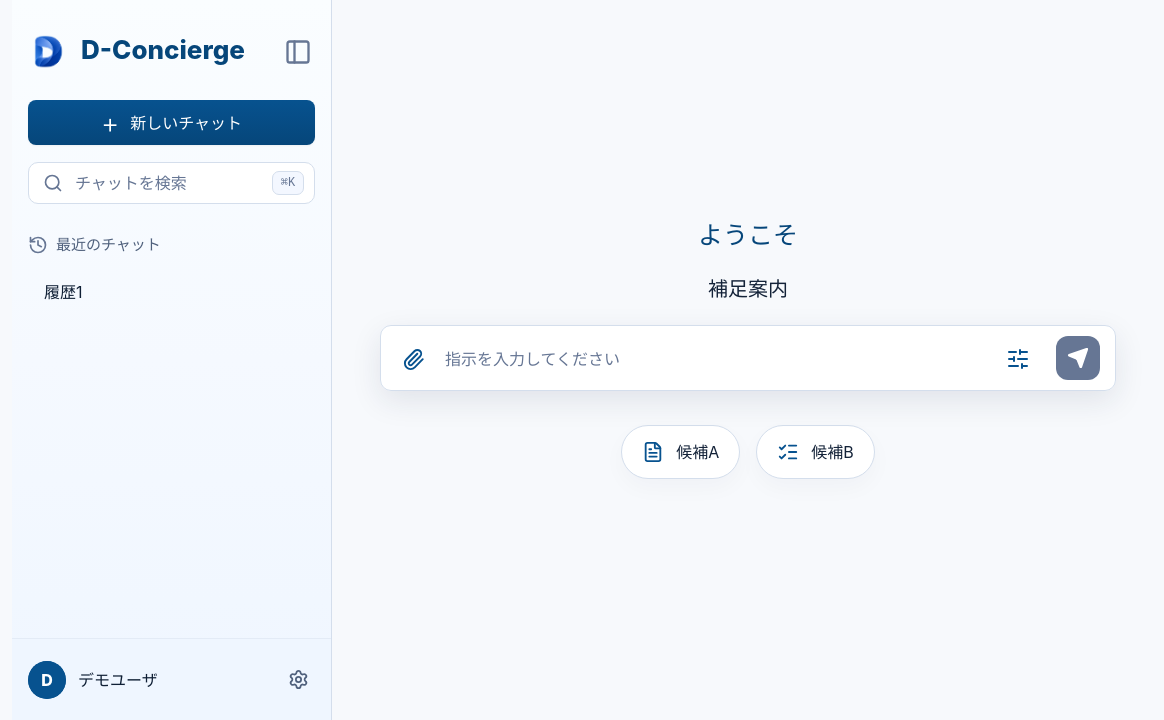
it: ChatPage integration › 観点：画面遷移によるSSE購読解除。確認：表示対象を離れた場合は旧EventSourceだけを閉じる。
The image size is (1164, 720).
Click the button "履歴1" at (63, 292), box [12,269,331,315]
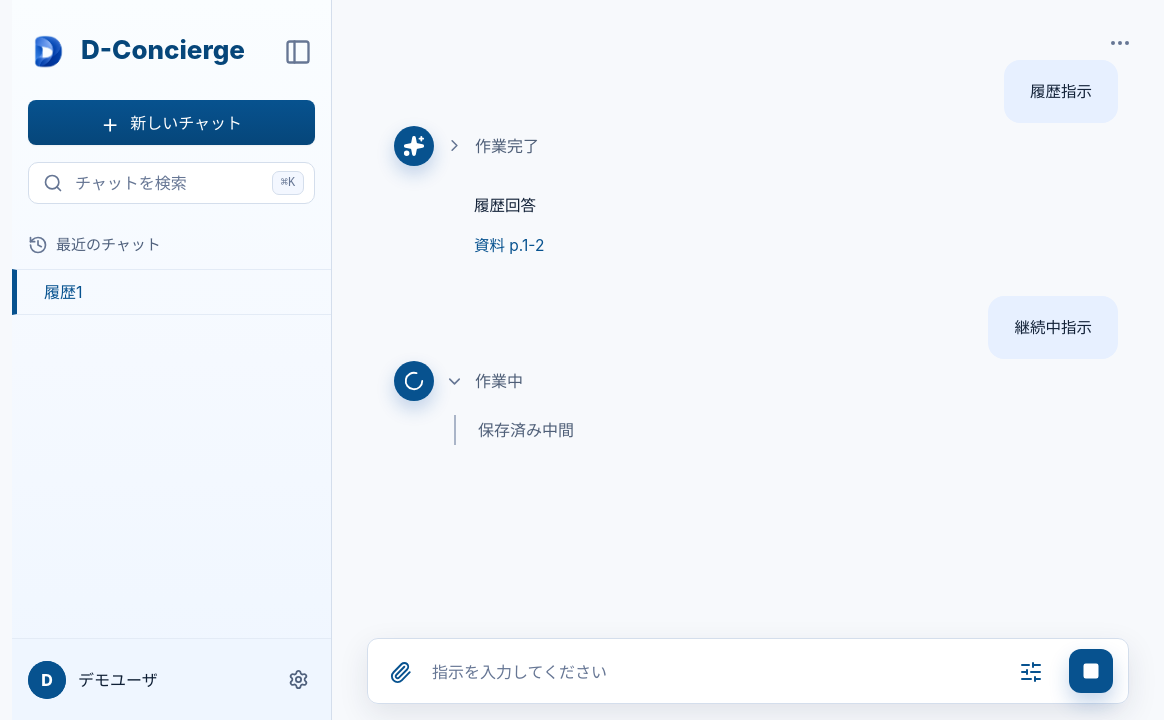
Click the button "+ 新しいチャット" at (172, 122), box [28,100,315,145]
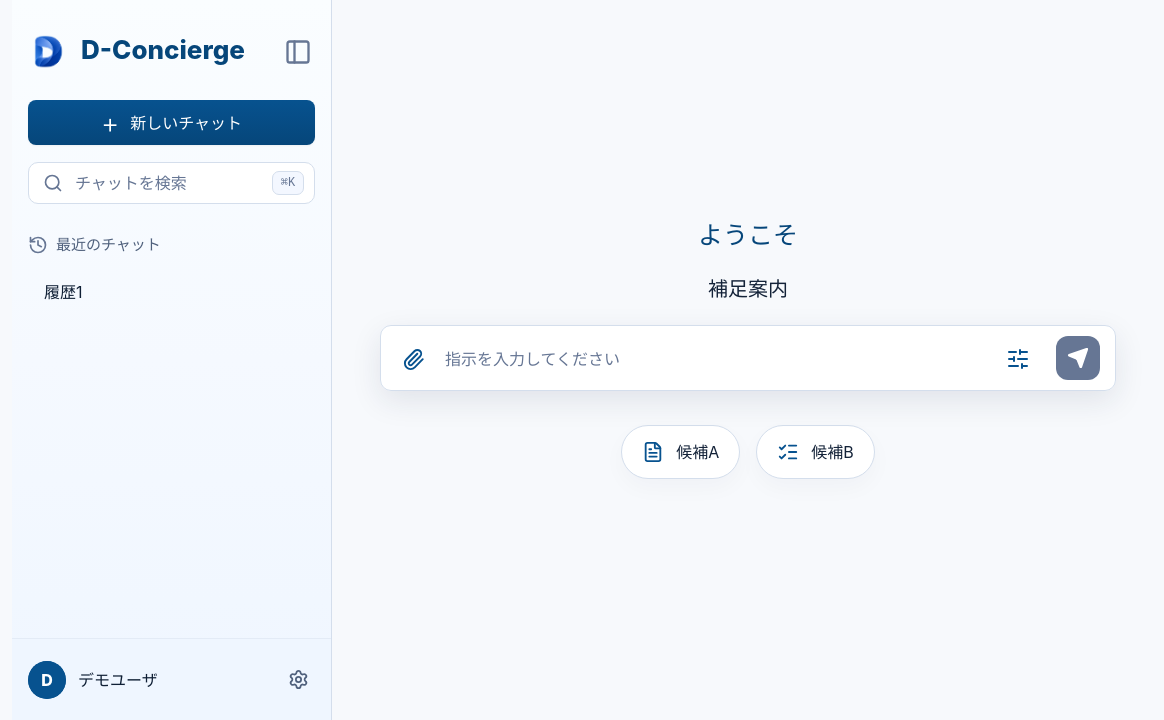
Expected: the heading "ようこそ" is shown, [698,220,798,250]
